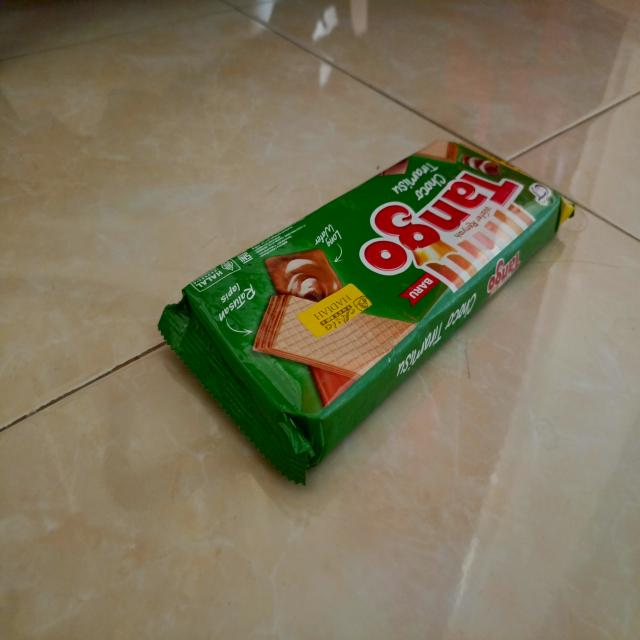tango-tiramisu: (154, 135, 579, 487)
